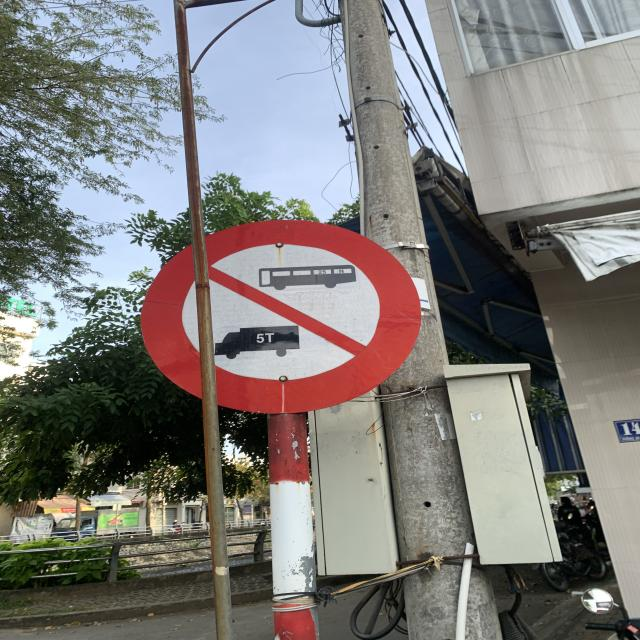Cam_XeTai_XeKhach: (145, 218, 424, 416)
